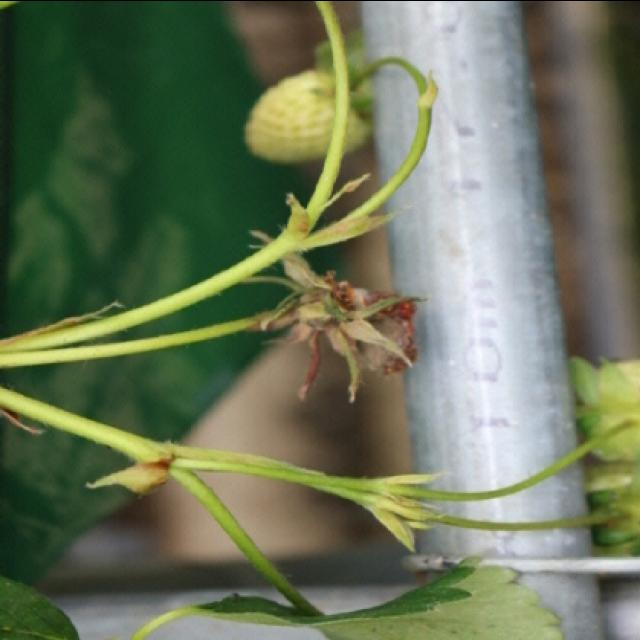Gray Mold: (248, 257, 427, 402)
